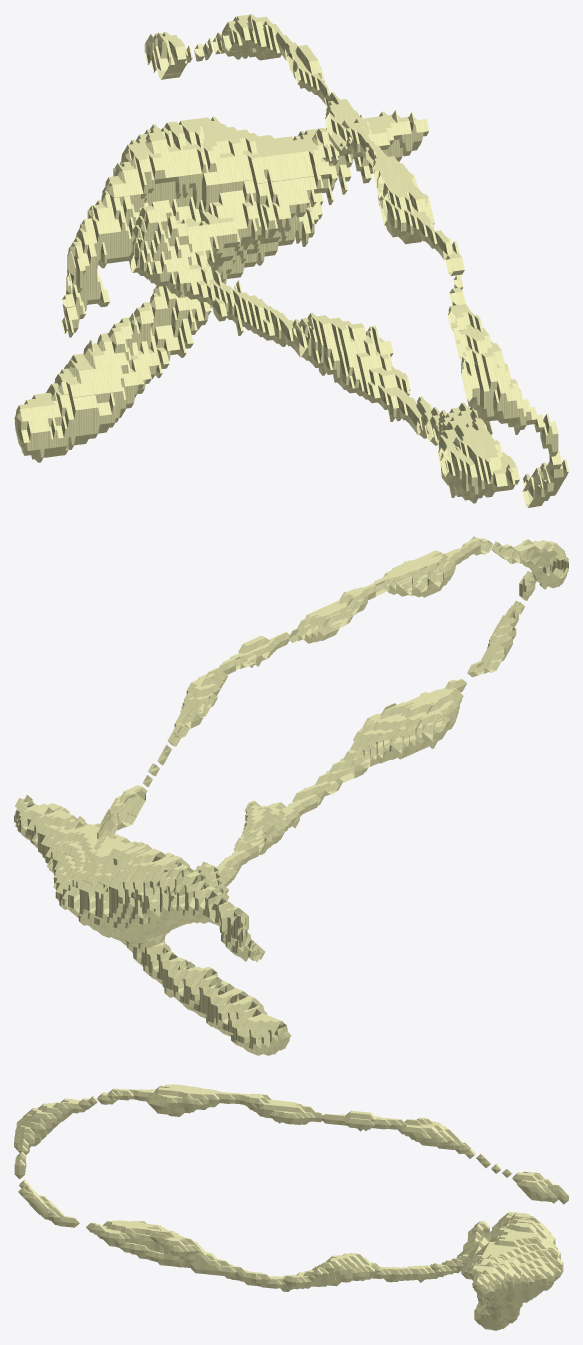
File: SVV_IL2DL.gltf
The picture shows the model from 3 angles, top to bottom: view 1: azimuth 30°, elevation 25°; view 2: azimuth 150°, elevation 25°; view 3: azimuth 270°, elevation 25°; orthographic projection. The views are drawn at different scales.
Visible parts, largest first — view 1: IL2DL; view 2: IL2DL; view 3: IL2DL.
Part boxes in pixels (x1,y1,x2,y2): IL2DL: (14,14,568,507); IL2DL: (14,536,568,1055); IL2DL: (14,1084,568,1330).
Bounding box in the file's own units: 31535 × 35611 × 70704.
